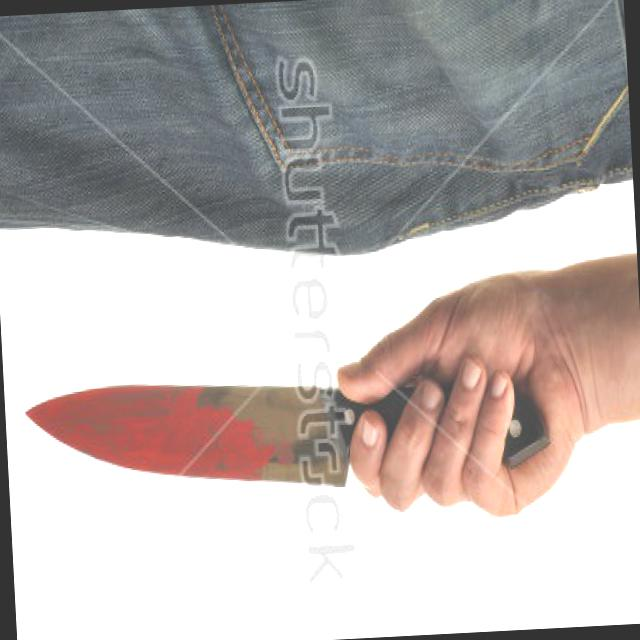knife: (9, 320, 477, 542)
